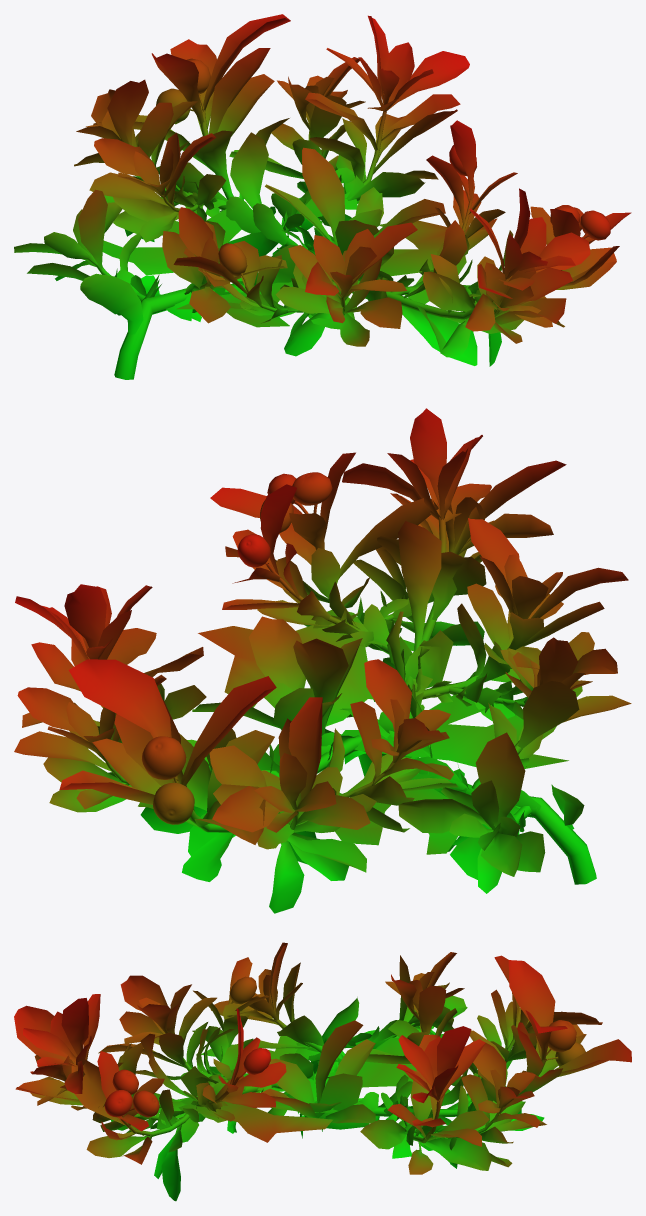
Rendered from Alpine Bearberry_LOD1_Var7_xb0gdazqx.fbx.
3 renders of one model, top to bottom at view 1: azimuth 30°, elevation 25°; view 2: azimuth 150°, elevation 25°; view 3: azimuth 270°, elevation 25°, orthographic. The views are drawn at different scales.
Visible parts, largest first — view 1: _6s39_Var7_LOD1; view 2: _6s39_Var7_LOD1; view 3: _6s39_Var7_LOD1.
Part boxes in pixels (x1,y1,x2,y2): _6s39_Var7_LOD1: (14,14,631,379); _6s39_Var7_LOD1: (14,408,631,913); _6s39_Var7_LOD1: (14,942,631,1201).
Bounding box in the file's own units: 25.02 × 12.21 × 34.74.
